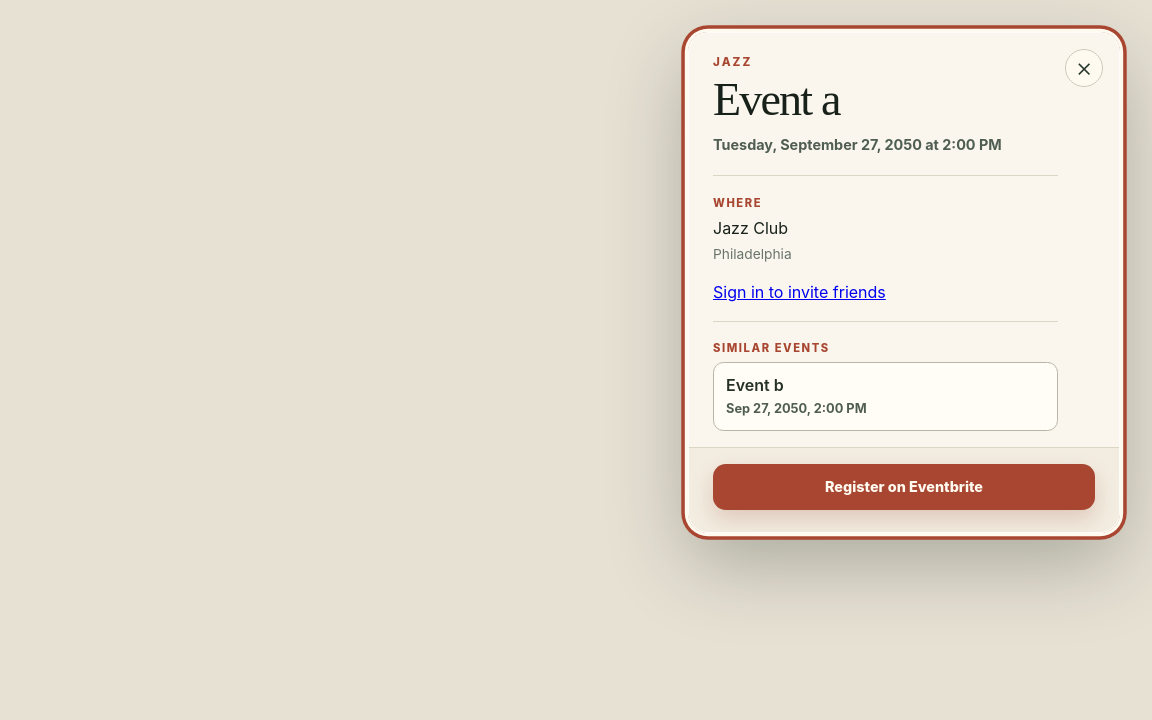
Test: similar events in details › opens a recommended event with its own details and registration link
What coordinates should you click on to do the following:
click the button "Event b Sep 27, 2050, 2:00 PM"
I would click on:
 (755, 385)
Its box is x1=713 y1=362 x2=1058 y2=431.
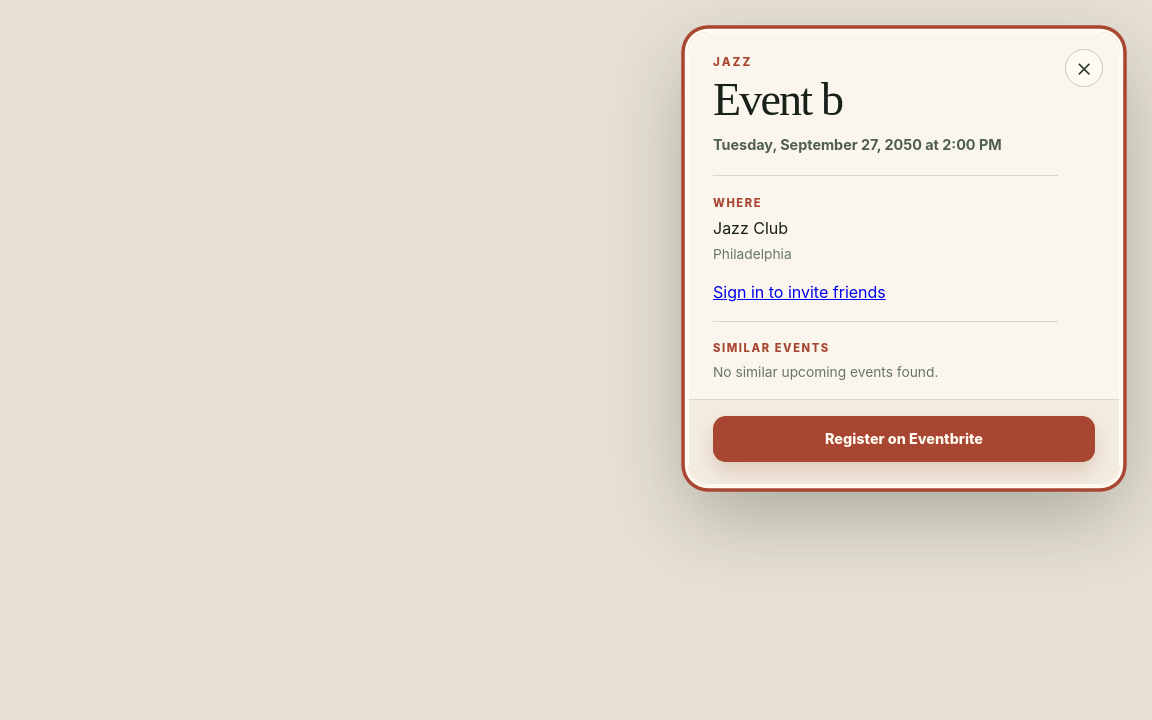
Expected: the dialog "Event b" is shown, x1=688 y1=32 x2=1120 y2=485
Expected: the text "No similar upcoming events found." is shown, x1=713 y1=364 x2=938 y2=380
